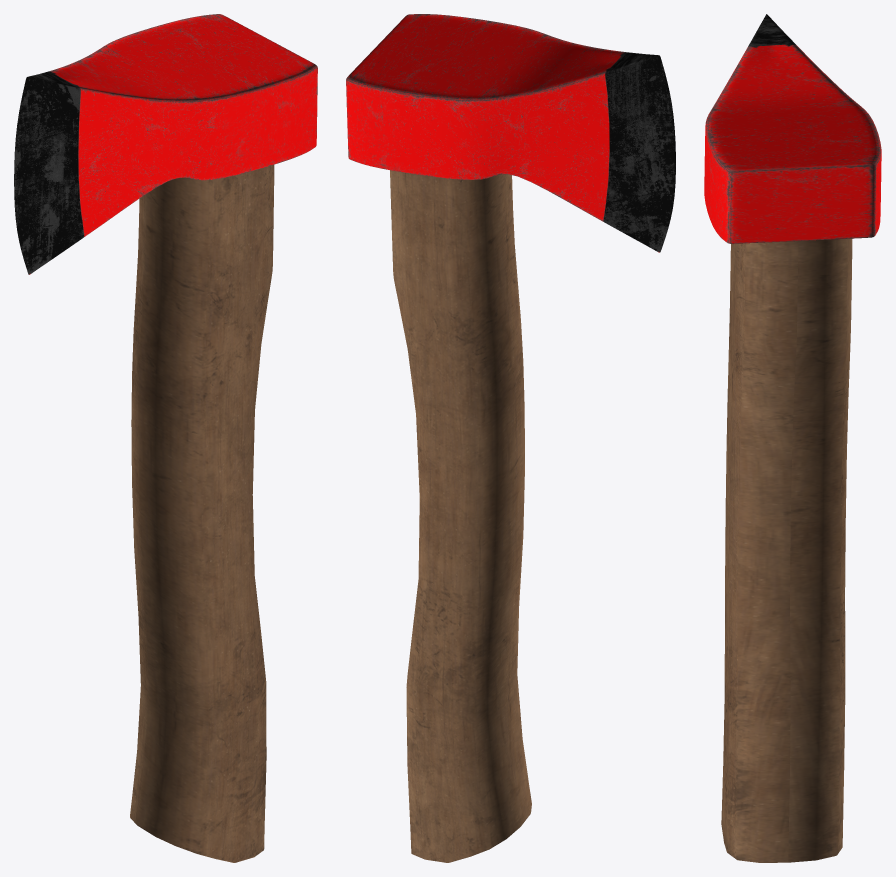
File: hachacasazim1.obj
3 views of the same model, side by side, from view 1: azimuth 30°, elevation 25°; view 2: azimuth 150°, elevation 25°; view 3: azimuth 270°, elevation 25° (orthographic). The views are drawn at different scales.
Parts seen in each view (by area): view 1: obj1.001; view 2: obj1.001; view 3: obj1.001.
Part boxes in pixels (x1,y1,x2,y2): obj1.001: (14, 14, 317, 862); obj1.001: (346, 14, 675, 862); obj1.001: (704, 14, 881, 862).
Bounding box in the file's own units: 0.416 × 1.14 × 0.2443.
Materials: 2 (2 with a texture image).
